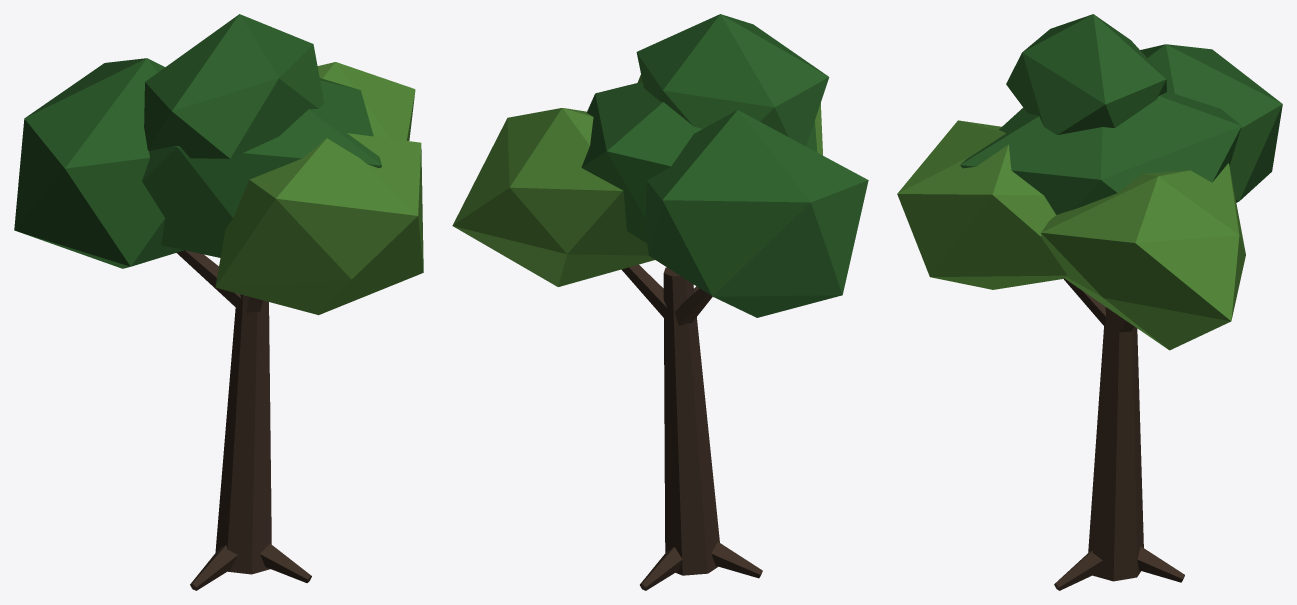
Rendered from tree_broad.glb.
The picture shows the model from 3 angles, left to right: view 1: azimuth 30°, elevation 25°; view 2: azimuth 150°, elevation 25°; view 3: azimuth 270°, elevation 25°; orthographic projection. The views are drawn at different scales.
Parts seen in each view (by area): view 1: TreeBroad; view 2: TreeBroad; view 3: TreeBroad.
Part boxes in pixels (x1=…): TreeBroad: x1=14, y1=14, x2=423, y2=590; TreeBroad: x1=452, y1=14, x2=868, y2=590; TreeBroad: x1=897, y1=14, x2=1282, y2=590.
Bounding box in the file's own units: 7.28 × 10.38 × 6.57.
